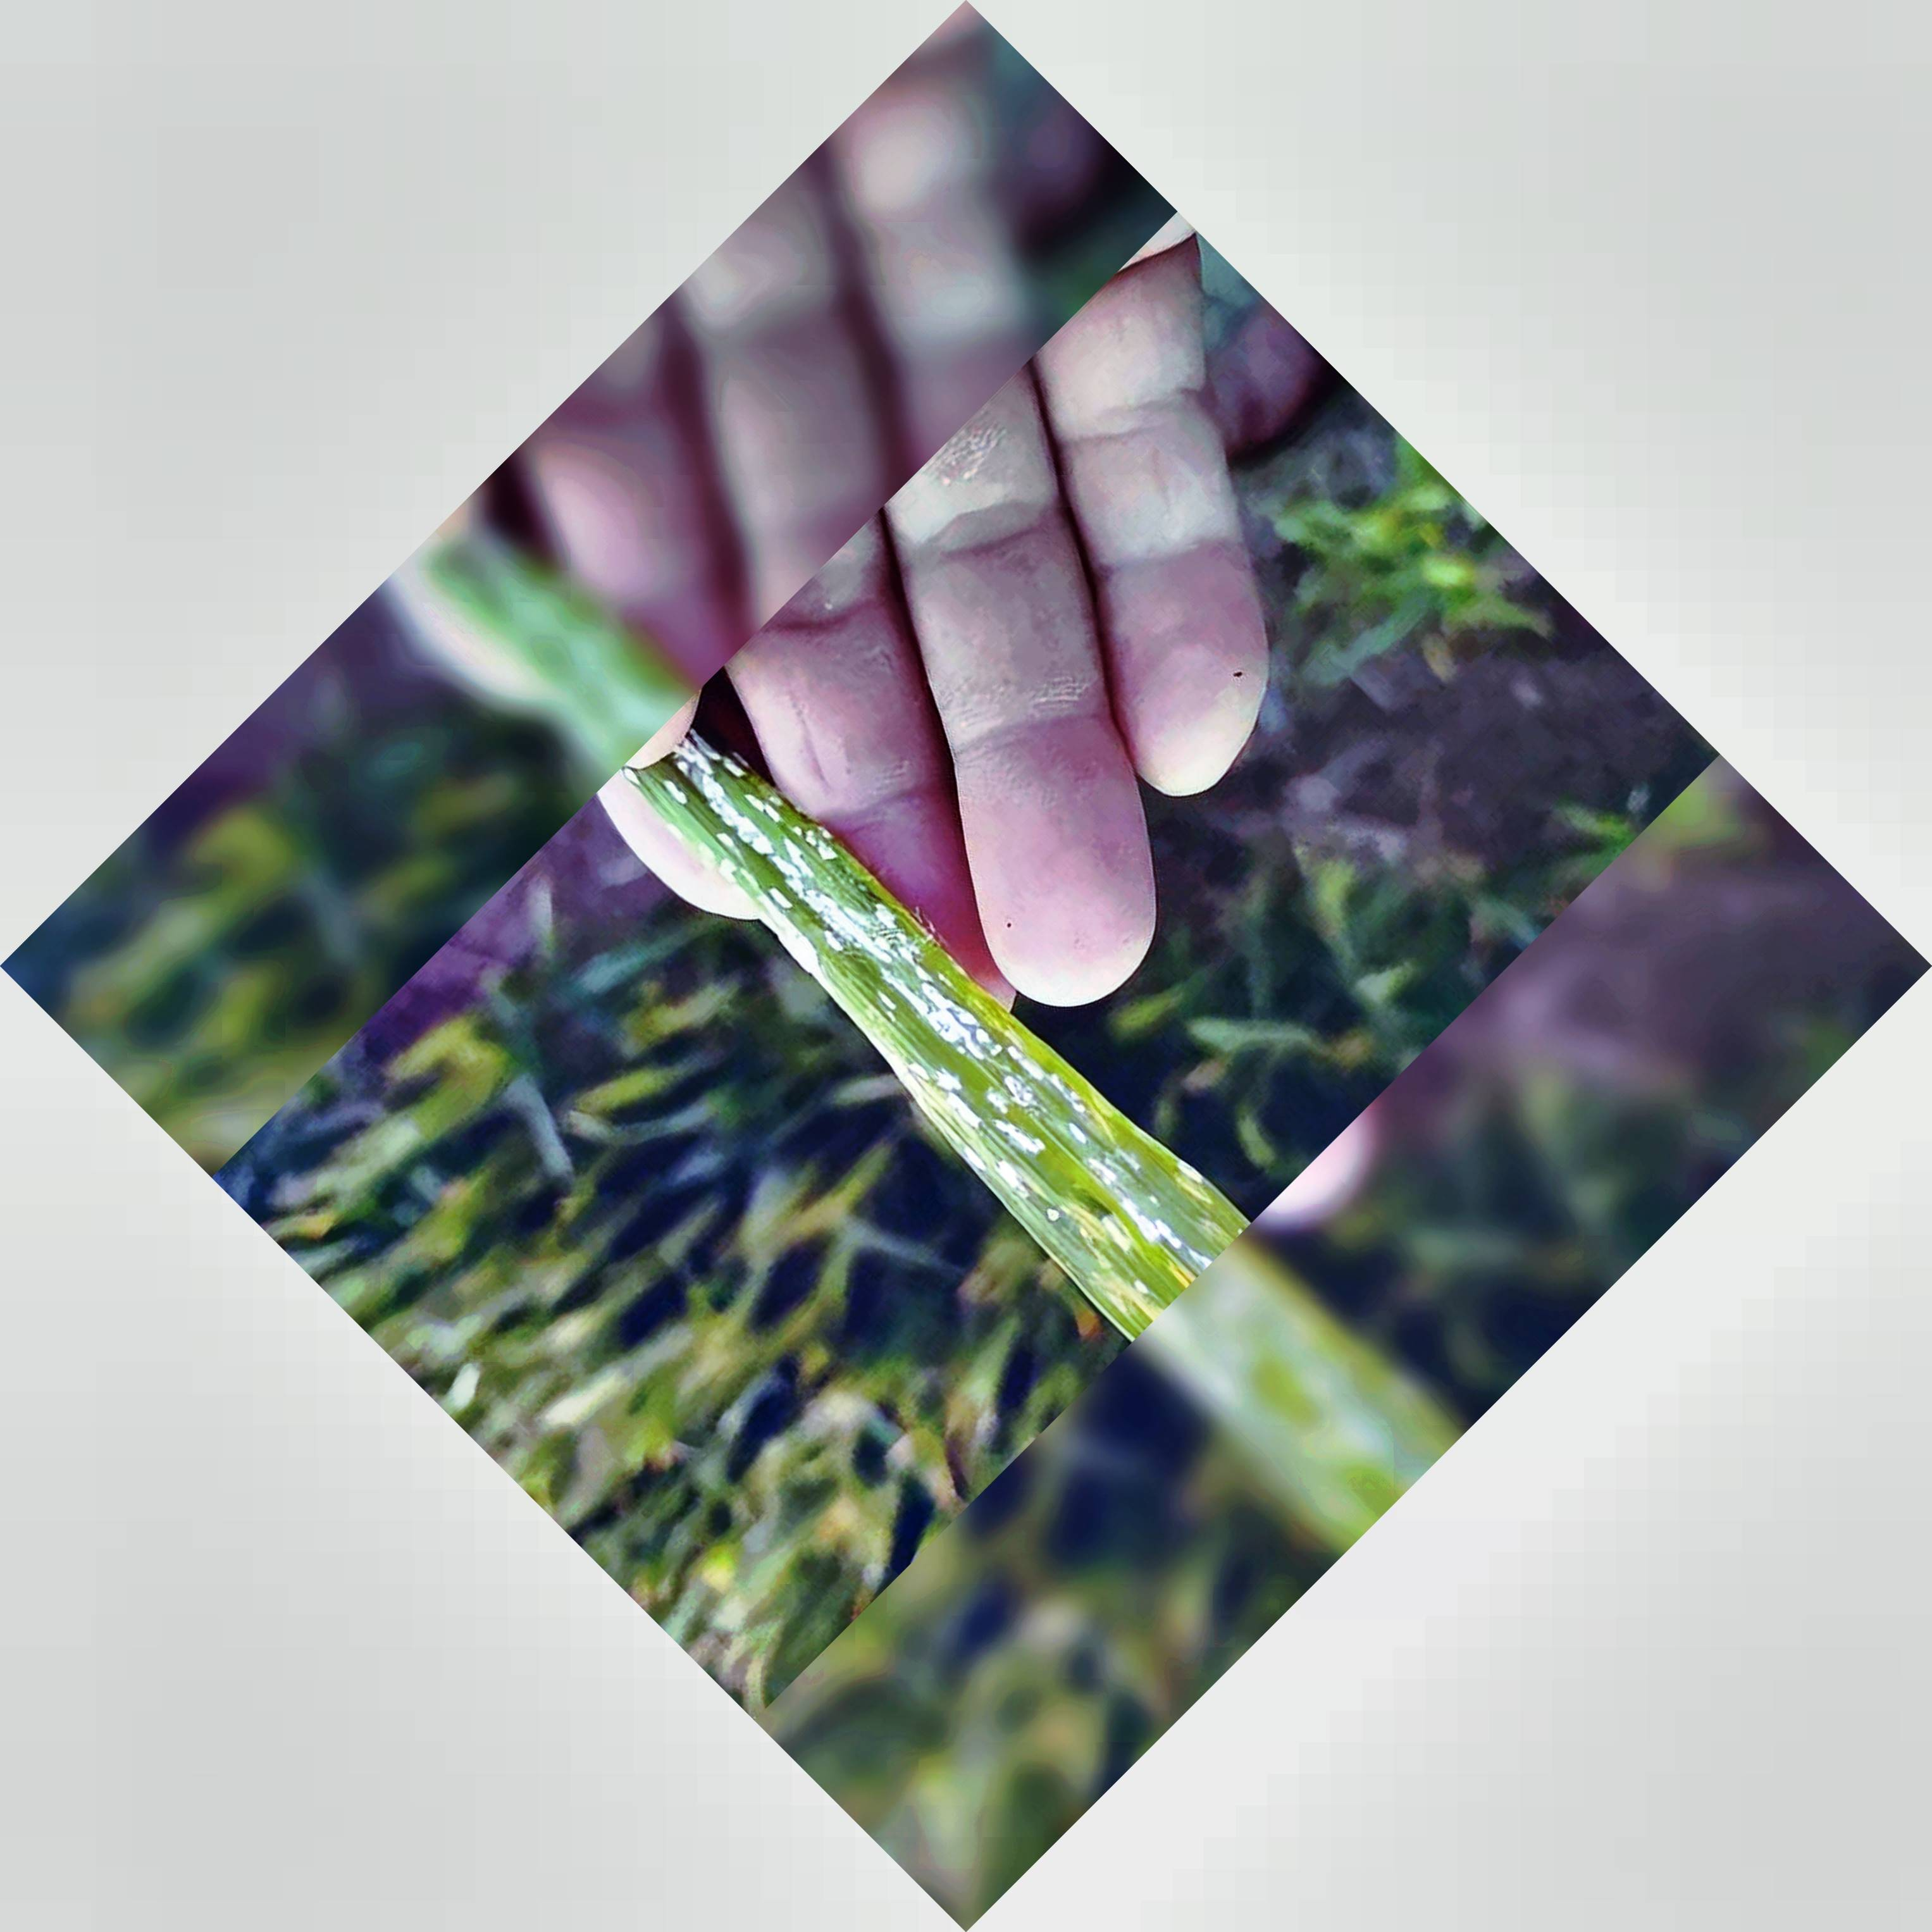Powdery Mildew: (658, 748, 1171, 1260)
